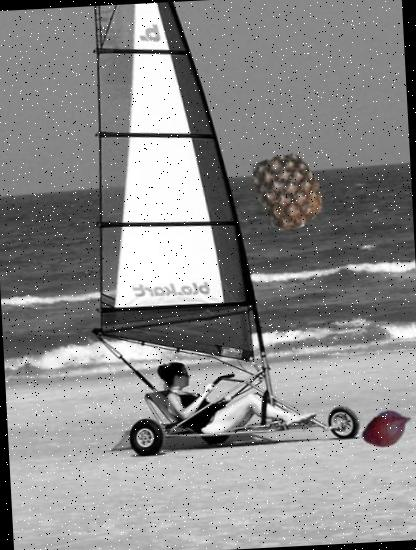Pineapple: (249, 152, 328, 232)
Salak: (360, 400, 416, 456)
